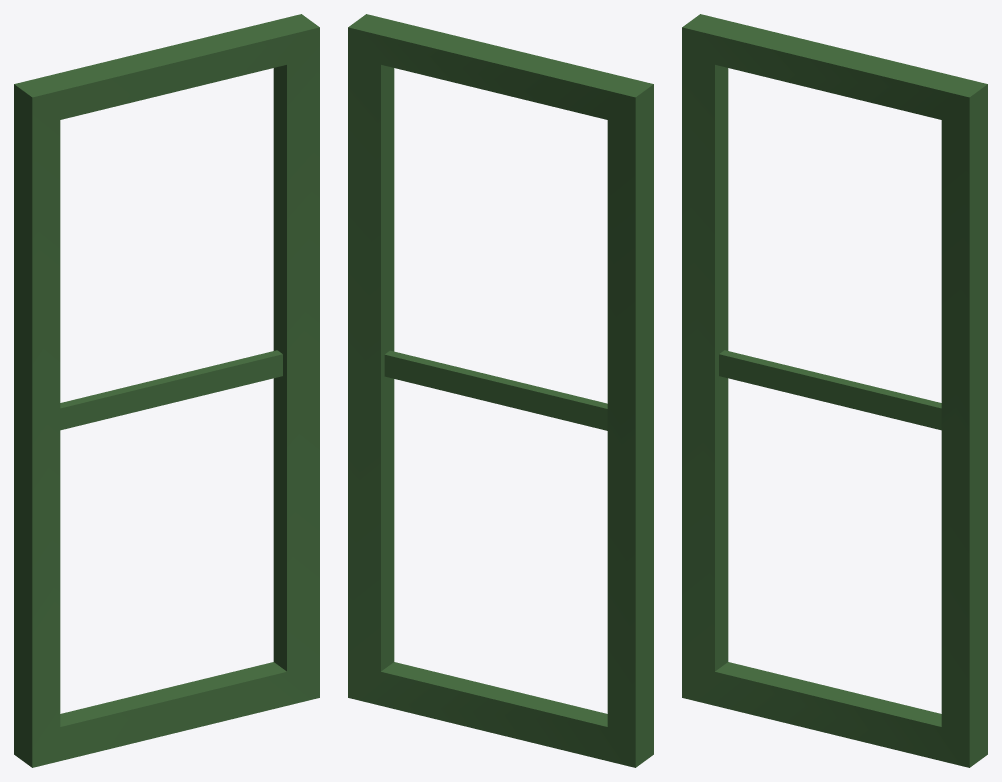
Rendered from ApartmentWindow_low.fbx.
3 renders of one model, left to right at view 1: azimuth 30°, elevation 25°; view 2: azimuth 150°, elevation 25°; view 3: azimuth 330°, elevation 25°, orthographic.
Parts seen in each view (by area): view 1: ApartmentWindow_low; view 2: ApartmentWindow_low; view 3: ApartmentWindow_low.
Part boxes in pixels (<box>): ApartmentWindow_low: <box>14,14,319,767</box>; ApartmentWindow_low: <box>348,14,653,767</box>; ApartmentWindow_low: <box>682,14,987,767</box>.
Size of the model in its own units: 0.7778 by 1.73 by 0.0856.
